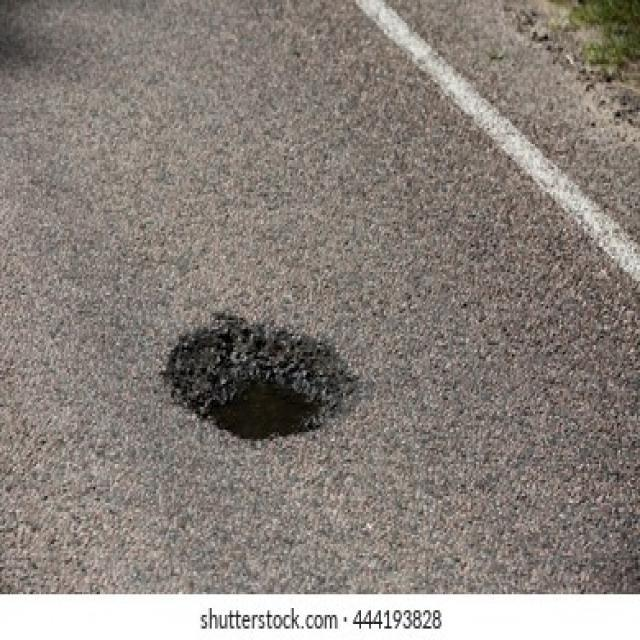Pothole: (156, 304, 361, 446)
